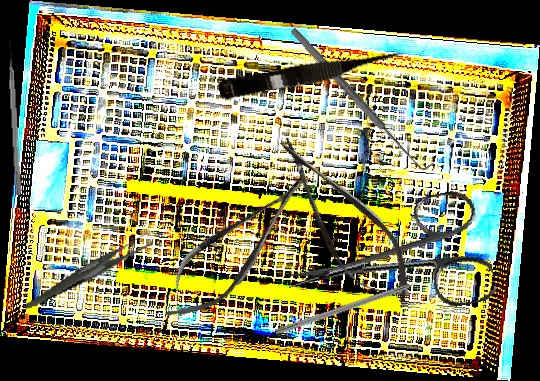Dressing Forceps: (16, 231, 161, 310)
Hook Surgical: (287, 21, 435, 176), (274, 273, 436, 337)
Iris Scissors: (276, 186, 499, 340)
Micro Scissor: (257, 121, 430, 321), (144, 155, 331, 338), (217, 44, 410, 105)
Pusher: (6, 40, 24, 196)
